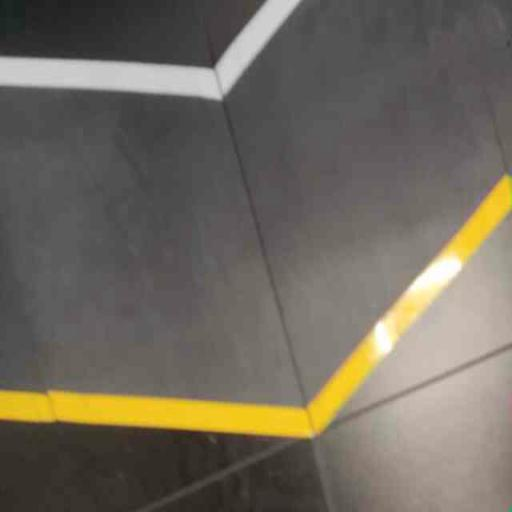crossright: (114, 32, 409, 460)
